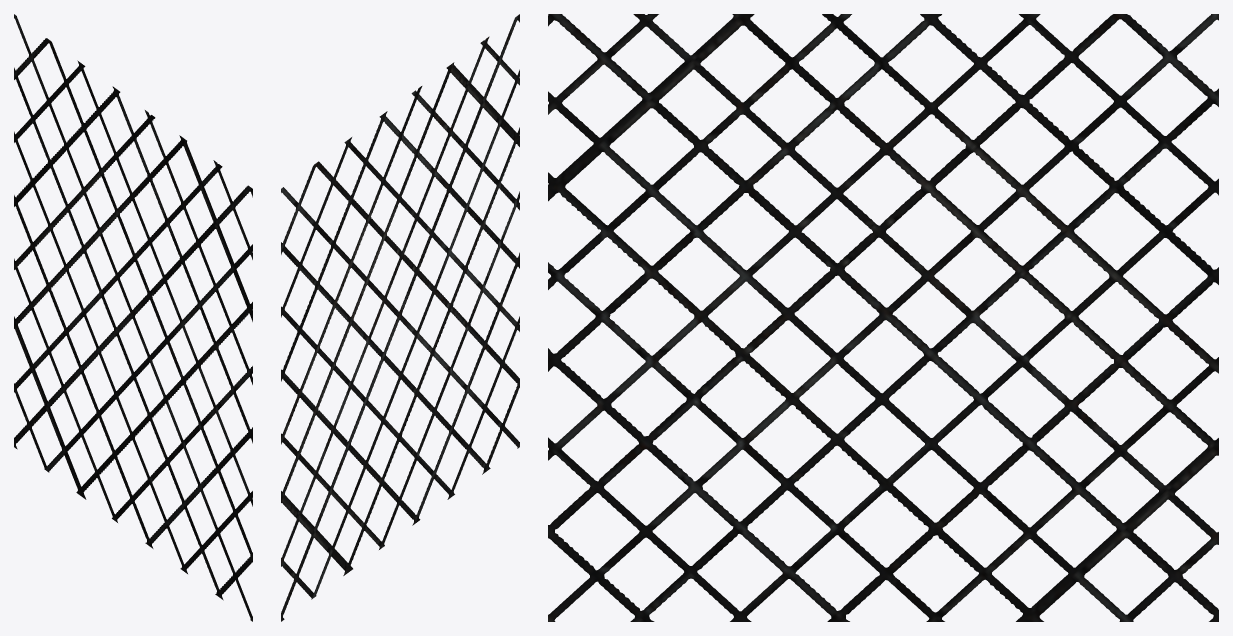
3 views of the same model, side by side, from view 1: azimuth 30°, elevation 25°; view 2: azimuth 150°, elevation 25°; view 3: azimuth 270°, elevation 25° (orthographic). The views are drawn at different scales.
Parts seen in each view (by area): view 1: Grid, GridCut; view 2: Grid, GridCut; view 3: Grid, GridCut.
Boxes of the visible parts, <box> form: Grid: <box>14,14,252,621</box>; GridCut: <box>40,128,215,504</box>; Grid: <box>281,14,519,621</box>; GridCut: <box>307,120,482,501</box>; Grid: <box>548,14,1218,621</box>; GridCut: <box>653,80,1144,535</box>.
Bounding box in the file's own units: 9.19e-06 × 122 × 122.
